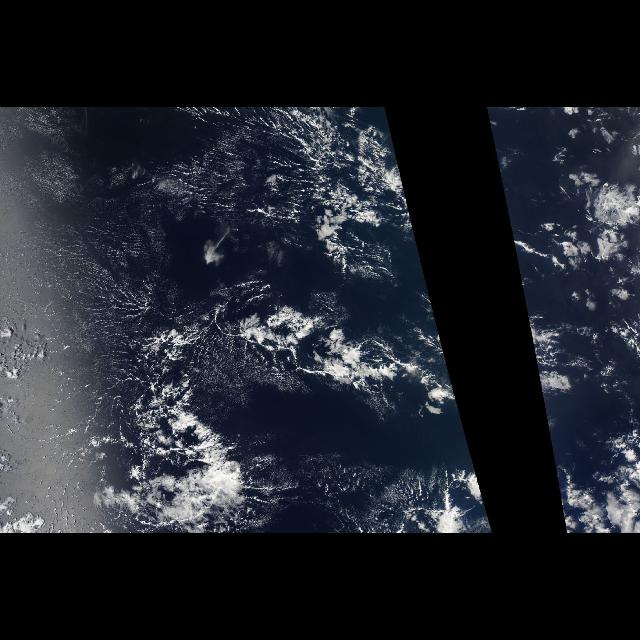Fish: (130, 300, 440, 526)
Sugar: (5, 110, 253, 426)
